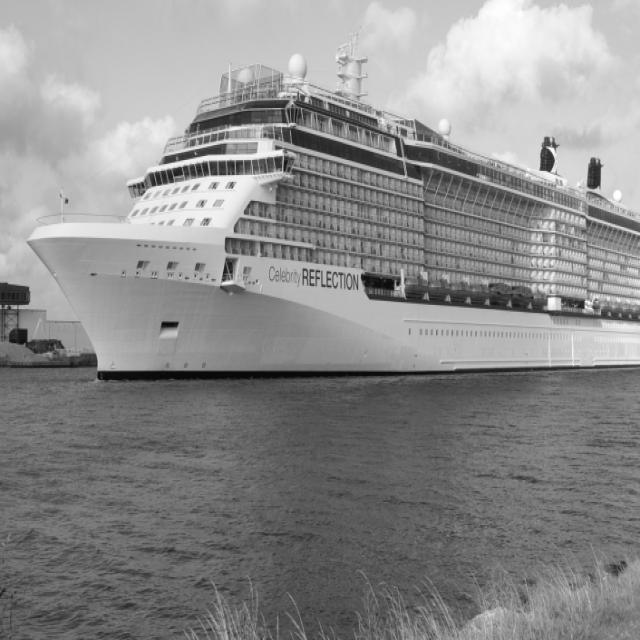cruises: (22, 24, 640, 388)
